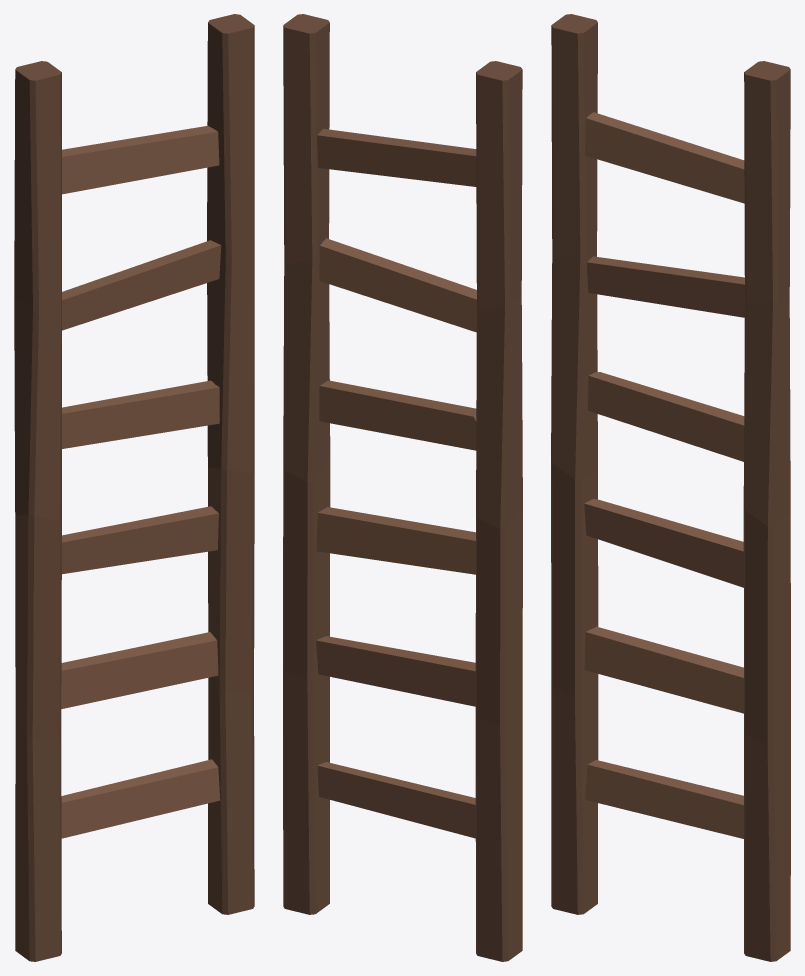
File: ladder.fbx
3 views of the same model, side by side, from view 1: azimuth 30°, elevation 25°; view 2: azimuth 150°, elevation 25°; view 3: azimuth 330°, elevation 25° (orthographic).
Parts seen in each view (by area): view 1: Cube, Cube.007, Cube.001; view 2: Cube, Cube.007, Cube.001; view 3: Cube.001, Cube.007, Cube.
Boxes of the visible parts, x1,y1,x2,y2 form: Cube: (14,61,61,961); Cube.007: (61,125,221,838); Cube.001: (207,14,254,914); Cube: (475,61,522,961); Cube.007: (316,129,476,838); Cube.001: (283,14,330,914); Cube.001: (743,61,790,961); Cube.007: (584,112,744,838); Cube: (551,14,598,914).
Size of the model in its own units: 199 by 735 by 31.37.
